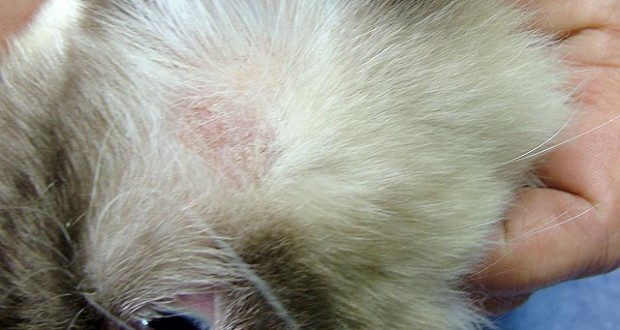ringworm: (175, 54, 276, 188)
